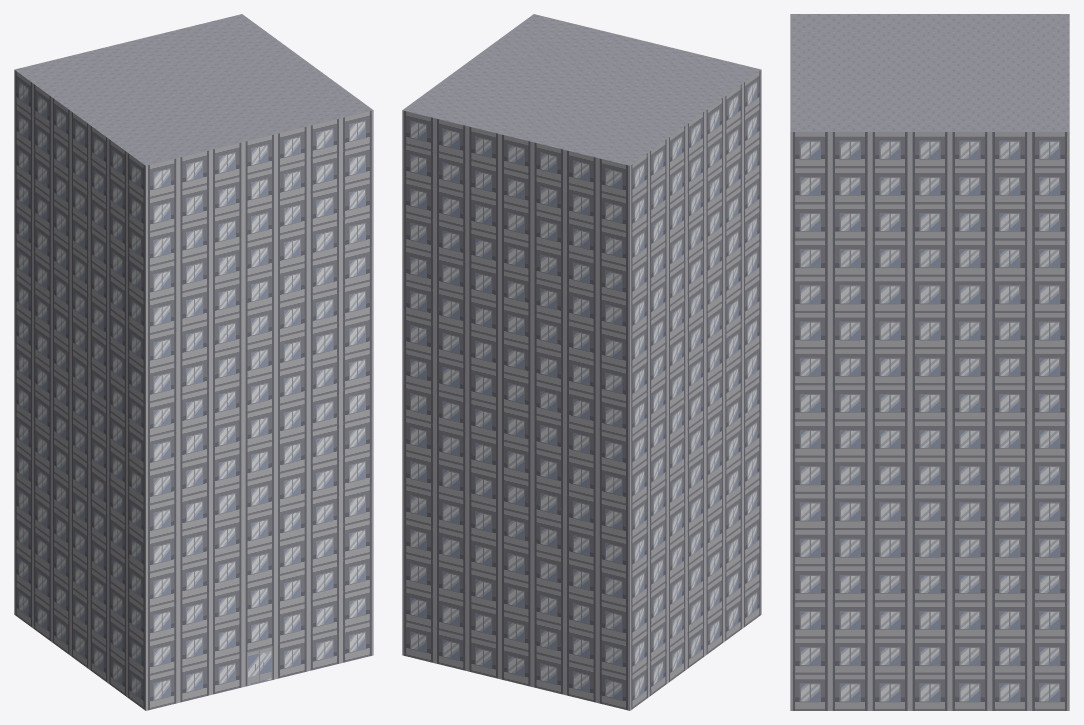
Rendered from Apartment.fbx.
The picture shows the model from 3 angles, left to right: view 1: azimuth 30°, elevation 25°; view 2: azimuth 150°, elevation 25°; view 3: azimuth 270°, elevation 25°; orthographic projection. The views are drawn at different scales.
Visible parts, largest first — view 1: Apartment001; view 2: Apartment001; view 3: Apartment001.
Part boxes in pixels (bbox=[...]): Apartment001: bbox=[14, 14, 373, 710]; Apartment001: bbox=[402, 14, 761, 710]; Apartment001: bbox=[790, 14, 1069, 710].
Bounding box in the file's own units: 551 × 1260 × 551.
